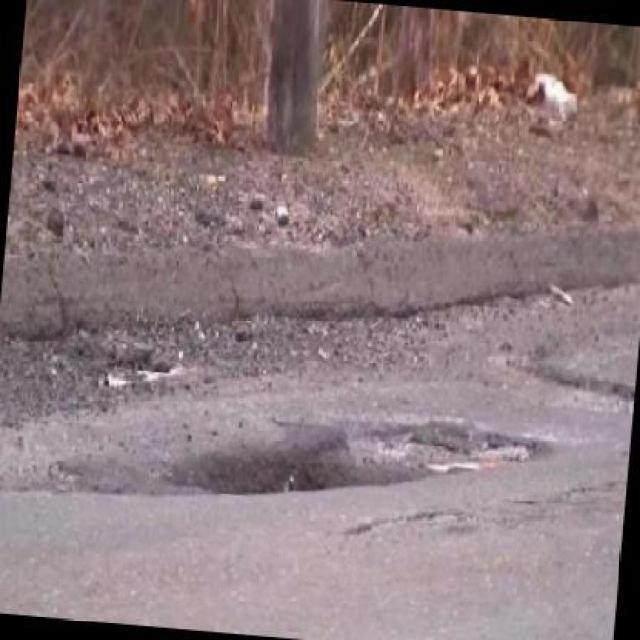pothole: (168, 389, 550, 528)
